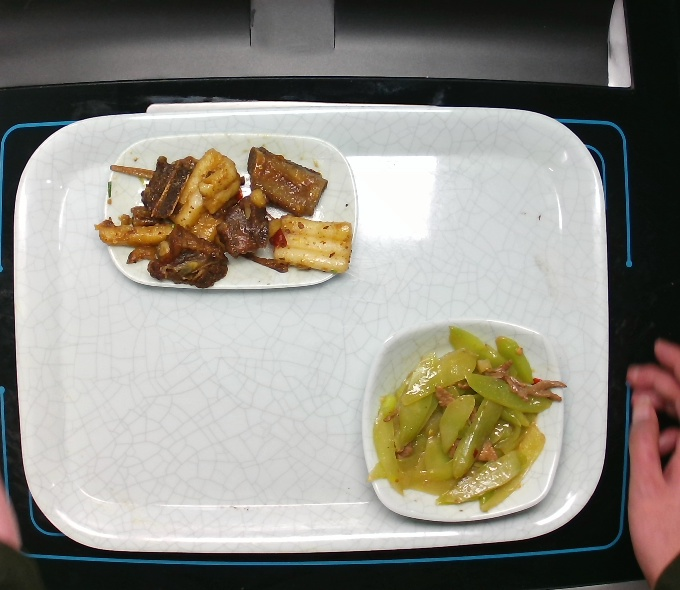wcq-NianGaoZaiPai: (95, 146, 353, 299)
wcq-WoSun: (360, 325, 568, 512)
